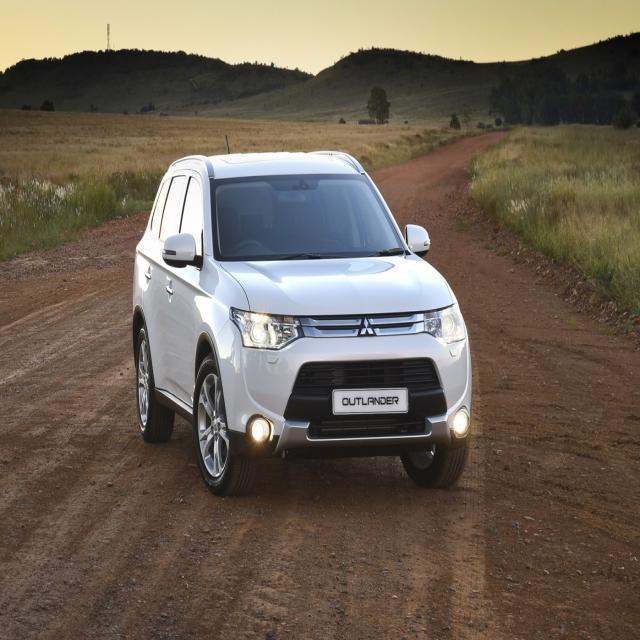light_vehicle: (131, 141, 473, 496)
